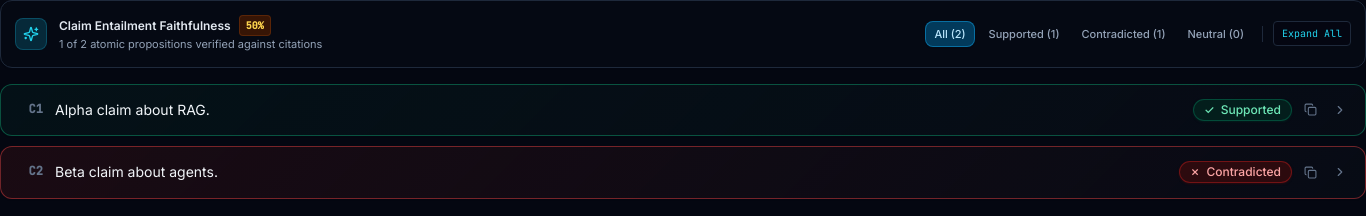
Scenario: ClaimInspector › filters to a single state when a filter tab is selected
Click the button "Contradicted (1)" at (1124, 34), box 1074,22 -> 1174,46
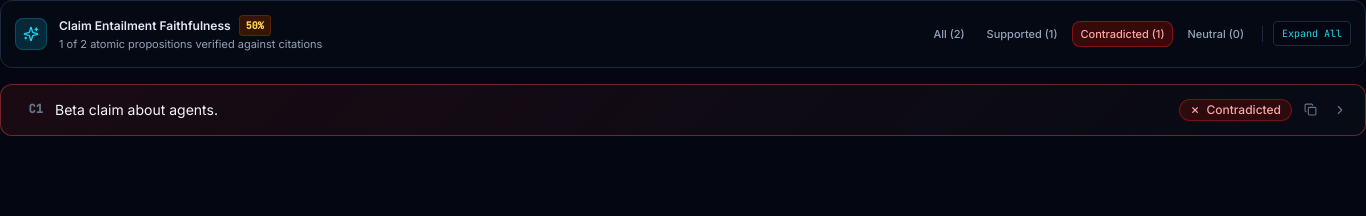
Expected: the text "Beta claim about agents." is shown, 55,100 -> 218,118
Now the text "Alpha claim about RAG." is gone
